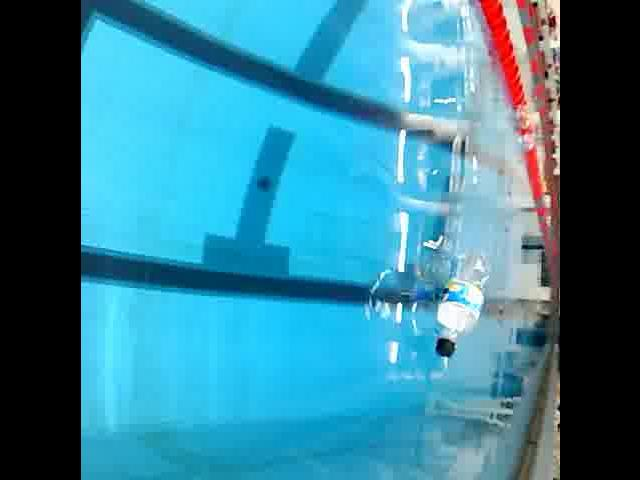Bottle: (428, 242, 494, 363), (513, 109, 535, 151)
